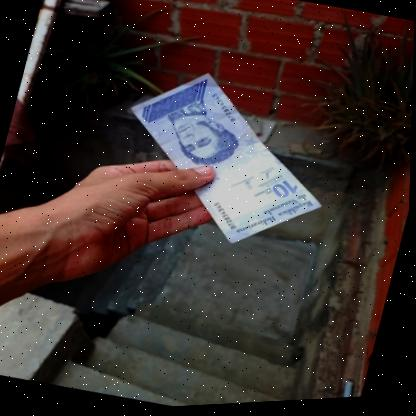ten-front-vef: (100, 55, 350, 270)
